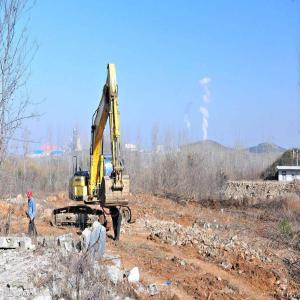red: (28, 192, 34, 202)
